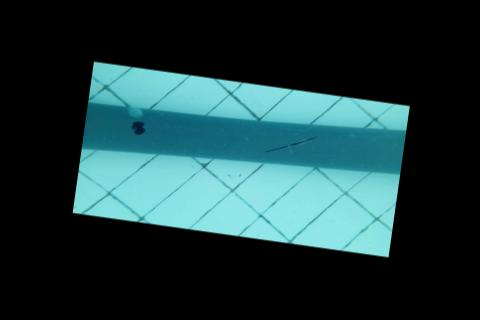kebocoran: (127, 118, 146, 137)
keretakan: (263, 128, 317, 159)
